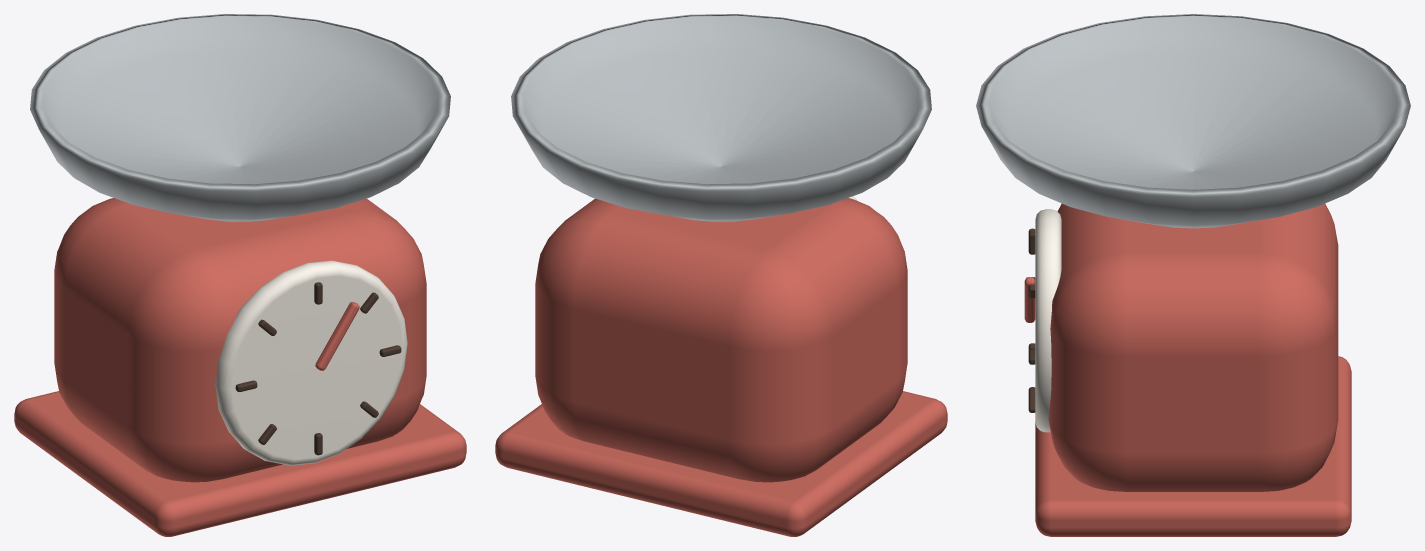
The model's file is kitchen_scale.glb.
3 renders of one model, left to right at view 1: azimuth 30°, elevation 25°; view 2: azimuth 150°, elevation 25°; view 3: azimuth 270°, elevation 25°, orthographic. The views are drawn at different scales.
Parts seen in each view (by area): view 1: kitchen_scale_mesh; view 2: kitchen_scale_mesh; view 3: kitchen_scale_mesh.
Part boxes in pixels (box(x1,y1,x2,y2)): kitchen_scale_mesh: box(14, 14, 466, 536); kitchen_scale_mesh: box(495, 14, 947, 536); kitchen_scale_mesh: box(976, 14, 1410, 536).
Size of the model in its own units: 0.33 by 0.302 by 0.33.
